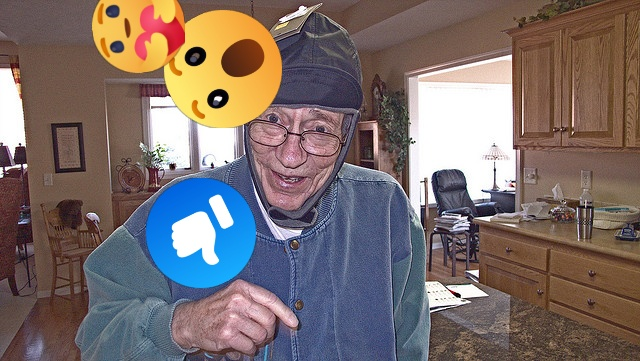care: (92, 0, 185, 73)
like: (146, 178, 256, 288)
wow: (164, 10, 282, 128)
